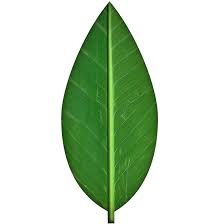healthy: (67, 12, 162, 213)
